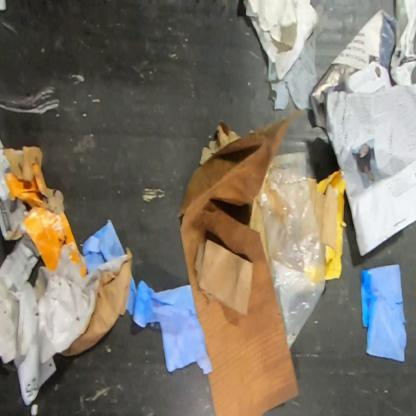cardboard: (178, 110, 302, 416), (0, 138, 86, 274), (36, 244, 133, 359), (306, 177, 338, 254)
soft_plastic: (255, 166, 327, 351)
